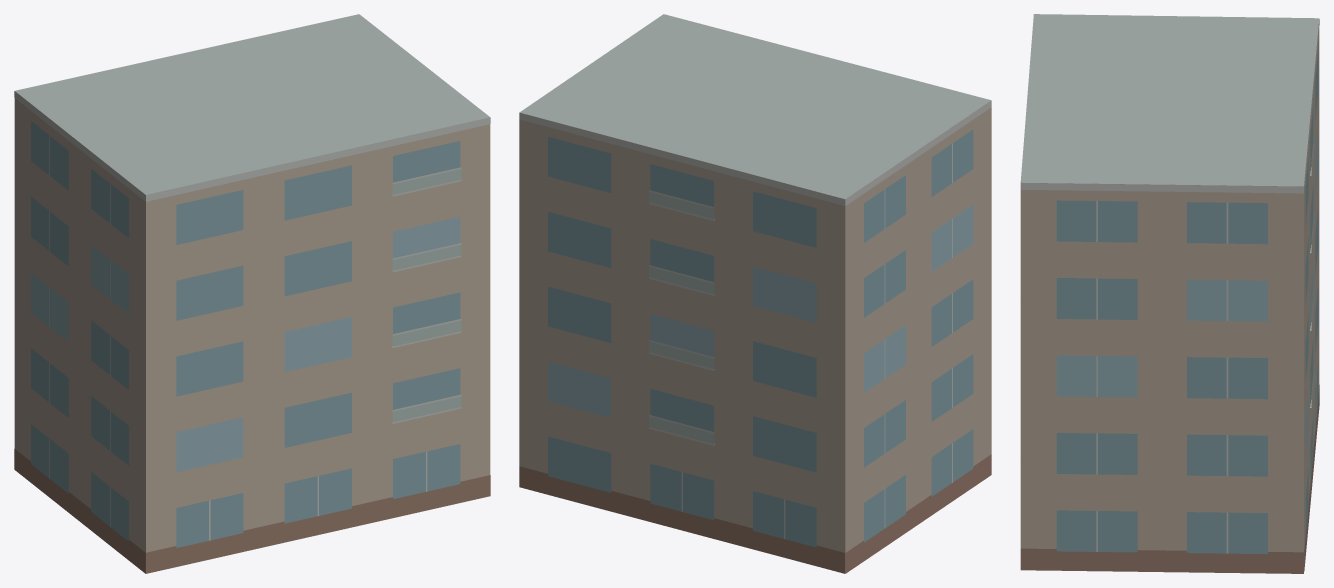
The model's file is survey-upis-32624456.glb.
The picture shows the model from 3 angles, left to right: view 1: azimuth 30°, elevation 25°; view 2: azimuth 150°, elevation 25°; view 3: azimuth 270°, elevation 25°; orthographic projection. The views are drawn at different scales.
Visible parts, largest first — view 1: survey-upis-32624456.tmp; view 2: survey-upis-32624456.tmp; view 3: survey-upis-32624456.tmp.
Boxes of the visible parts, bbox=[...] form: survey-upis-32624456.tmp: bbox=[14, 14, 490, 573]; survey-upis-32624456.tmp: bbox=[519, 14, 991, 573]; survey-upis-32624456.tmp: bbox=[1020, 14, 1319, 573].
Bounding box in the file's own units: 12.82 × 13.42 × 9.39.
